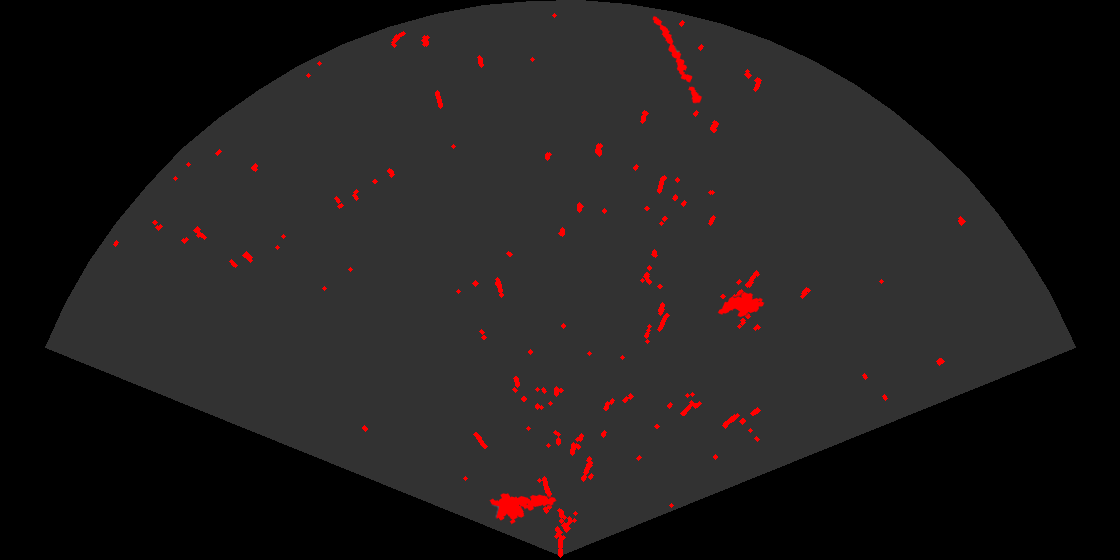AUV: (716, 290, 766, 319)
chain: (651, 14, 703, 105)
frogman: (488, 492, 558, 526)
